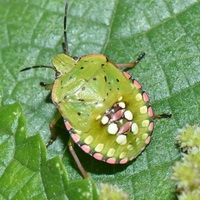insect: (21, 25, 170, 167)
